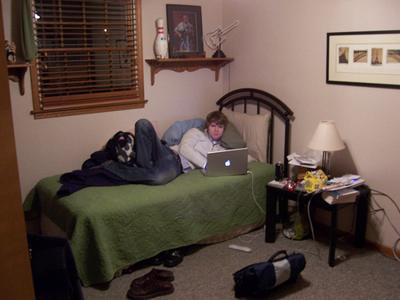person: (58, 110, 230, 200)
